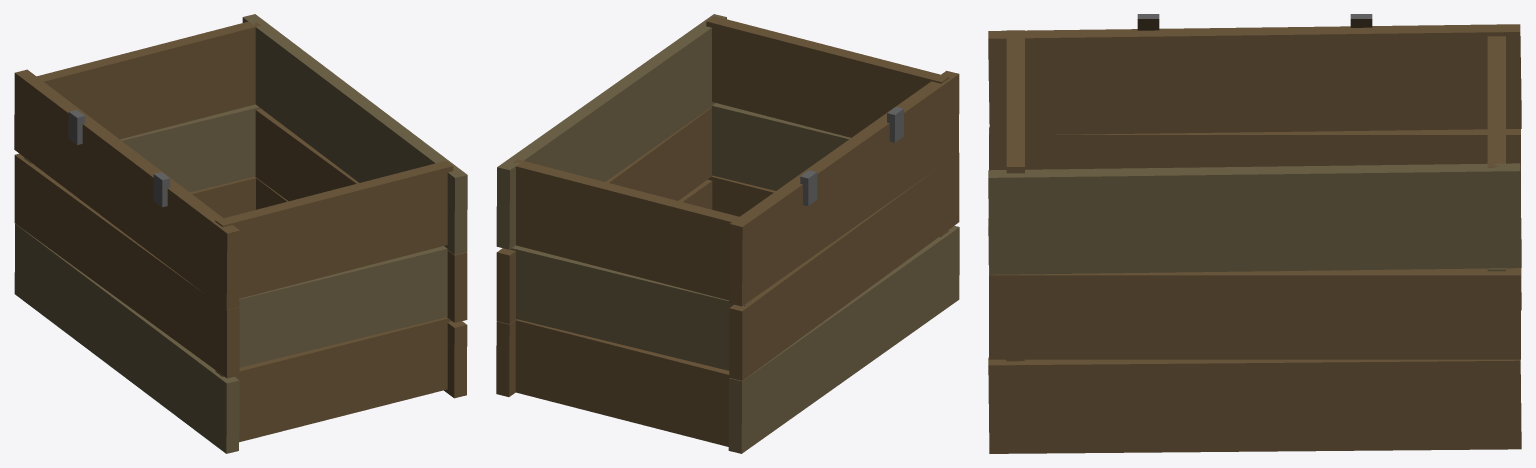
Rendered from prop-storage-crate.glb.
3 renders of one model, left to right at view 1: azimuth 30°, elevation 25°; view 2: azimuth 150°, elevation 25°; view 3: azimuth 270°, elevation 25°, orthographic. The views are drawn at different scales.
Visible parts, largest first — view 1: SM_StoragePart_03; view 2: SM_StoragePart_03; view 3: SM_StoragePart_03.
Part boxes in pixels (x1=…): SM_StoragePart_03: x1=14, y1=14, x2=467, y2=453; SM_StoragePart_03: x1=496, y1=14, x2=959, y2=453; SM_StoragePart_03: x1=988, y1=14, x2=1521, y2=453.
Size of the model in its own units: 0.8292 by 0.7455 by 1.24.
Materials: 1 (1 with a texture image).
